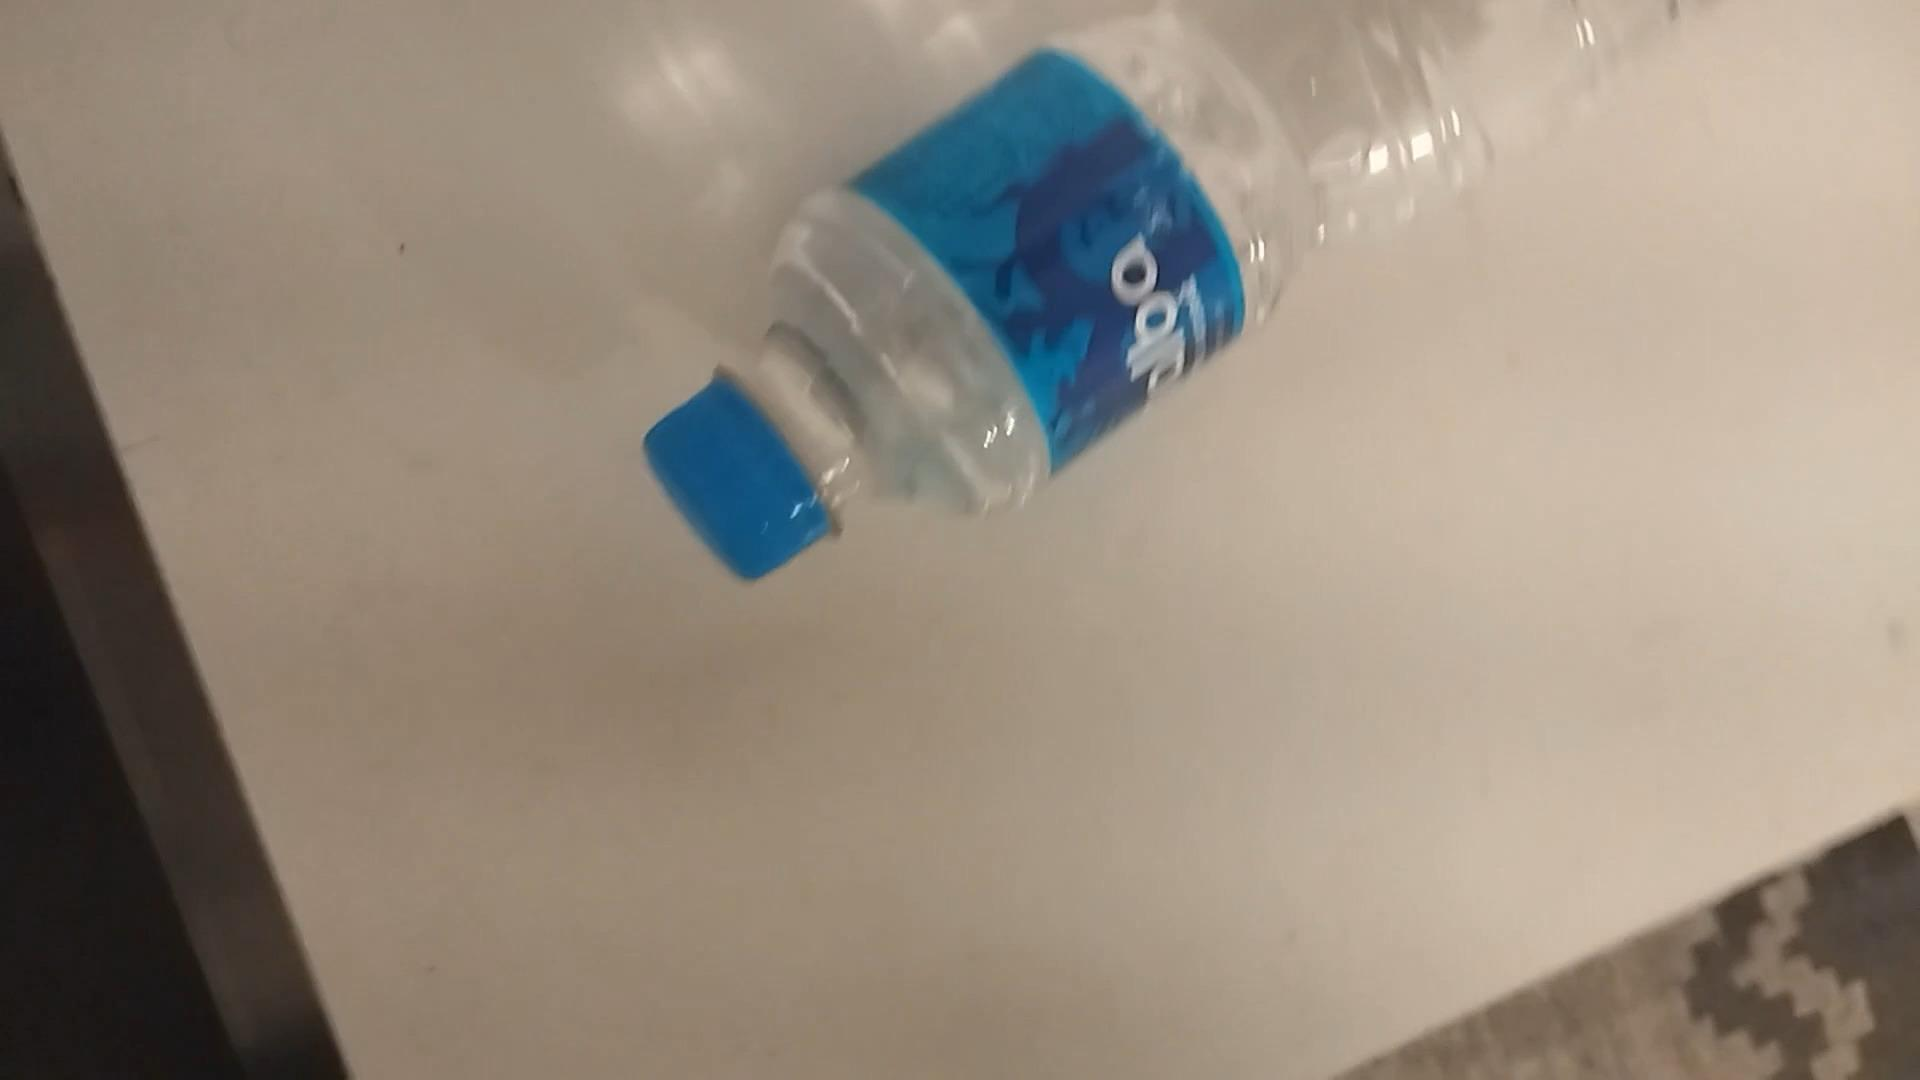agua: (662, 5, 1729, 584)
